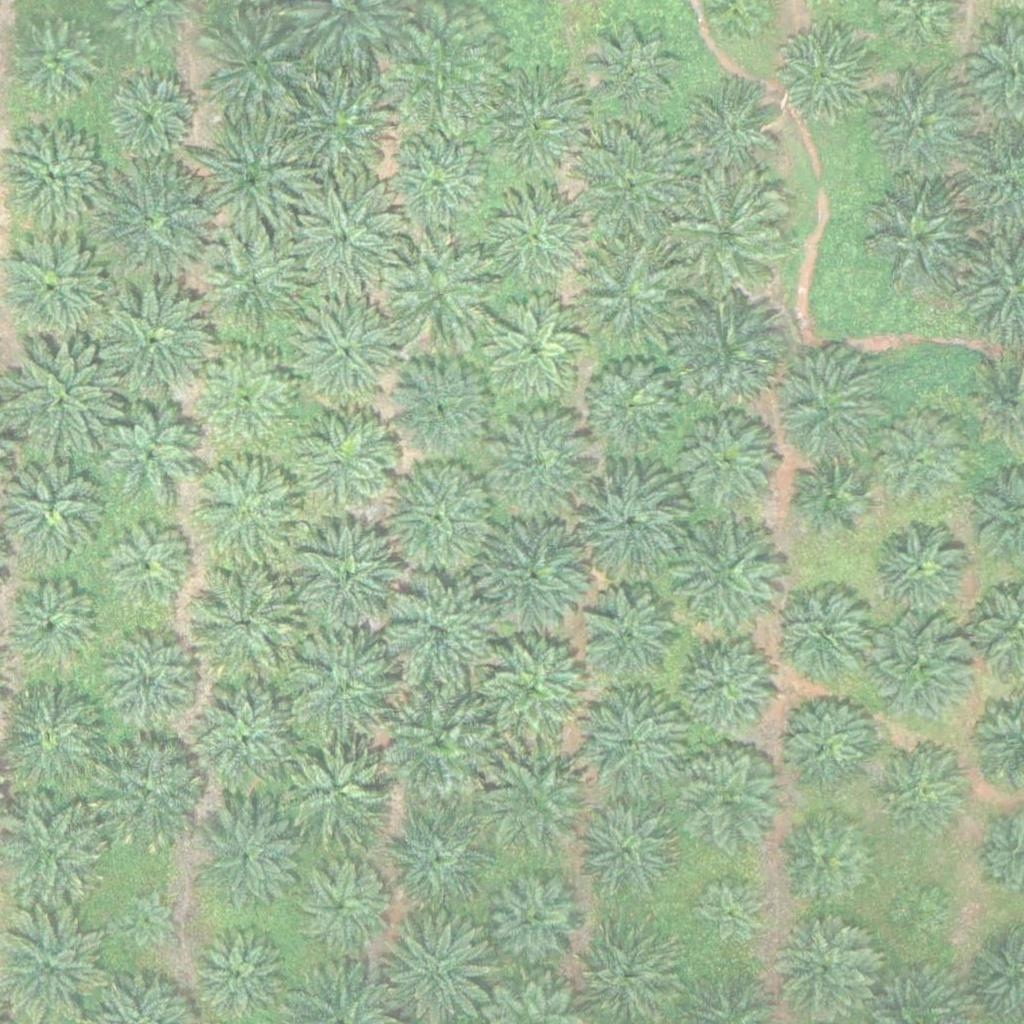Kelapa_Sawit: (386, 14, 499, 128), (667, 177, 780, 291), (771, 351, 884, 465), (861, 611, 974, 725), (192, 805, 305, 919), (99, 168, 212, 281), (97, 286, 210, 399), (193, 458, 306, 571), (185, 567, 298, 680), (278, 68, 391, 181), (381, 130, 494, 243), (385, 237, 498, 350), (382, 351, 495, 464), (485, 405, 598, 518), (477, 515, 590, 628), (578, 690, 691, 803), (479, 636, 592, 749), (290, 635, 403, 748), (281, 734, 394, 847), (190, 686, 303, 799), (476, 62, 588, 176), (480, 177, 592, 291), (575, 129, 687, 243), (572, 237, 684, 351), (672, 290, 784, 404), (669, 405, 781, 519), (92, 740, 204, 854), (577, 17, 689, 130), (201, 11, 313, 124), (5, 341, 117, 454), (196, 126, 308, 239), (198, 228, 310, 341), (287, 187, 399, 300), (288, 298, 400, 411), (293, 522, 405, 635), (381, 465, 493, 578), (382, 577, 494, 690), (573, 458, 685, 571), (671, 523, 783, 636), (865, 182, 977, 295), (481, 747, 593, 860), (384, 687, 496, 800), (380, 799, 492, 912), (871, 79, 971, 180), (773, 24, 873, 125), (98, 403, 198, 504), (194, 349, 294, 450), (294, 409, 394, 510), (484, 296, 584, 397), (579, 587, 679, 688), (679, 83, 779, 184), (878, 741, 978, 842), (776, 690, 876, 791), (780, 809, 880, 910), (772, 917, 872, 1018), (676, 635, 776, 736), (677, 747, 777, 848), (577, 796, 677, 897), (487, 873, 587, 974), (101, 632, 201, 732), (580, 353, 680, 453), (769, 586, 869, 686), (871, 409, 971, 509), (868, 521, 968, 621), (291, 855, 391, 955), (109, 76, 197, 164), (13, 18, 100, 107), (107, 522, 194, 610), (792, 455, 867, 531), (690, 879, 765, 954), (887, 883, 949, 946), (116, 888, 178, 951)
